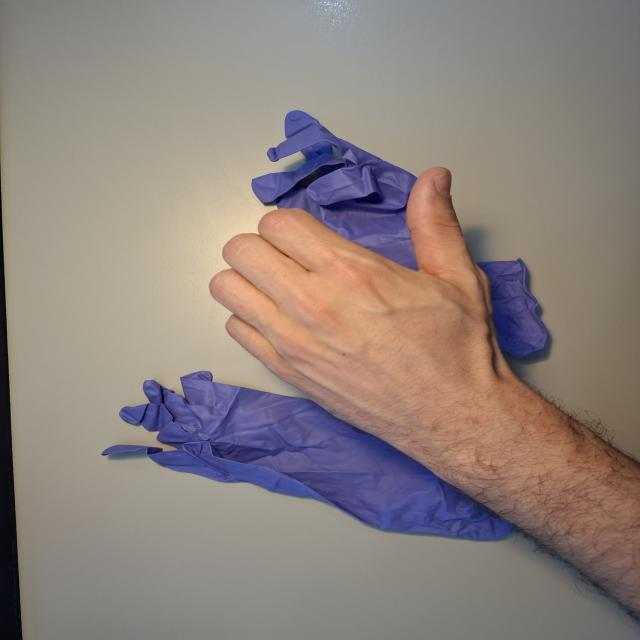glove_off: (207, 164, 540, 434)
